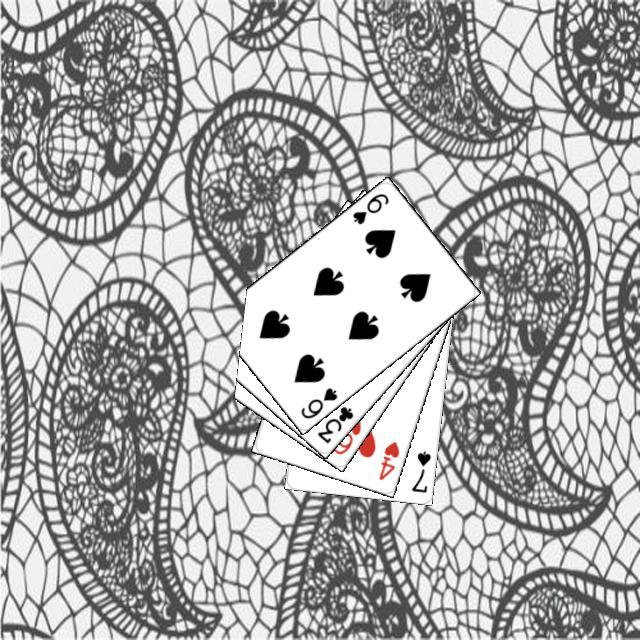3c: (312, 401, 355, 445)
4h: (374, 436, 401, 482)
6h: (328, 414, 363, 456)
6s: (347, 188, 391, 226), (296, 383, 339, 420)
7s: (407, 446, 432, 494)
